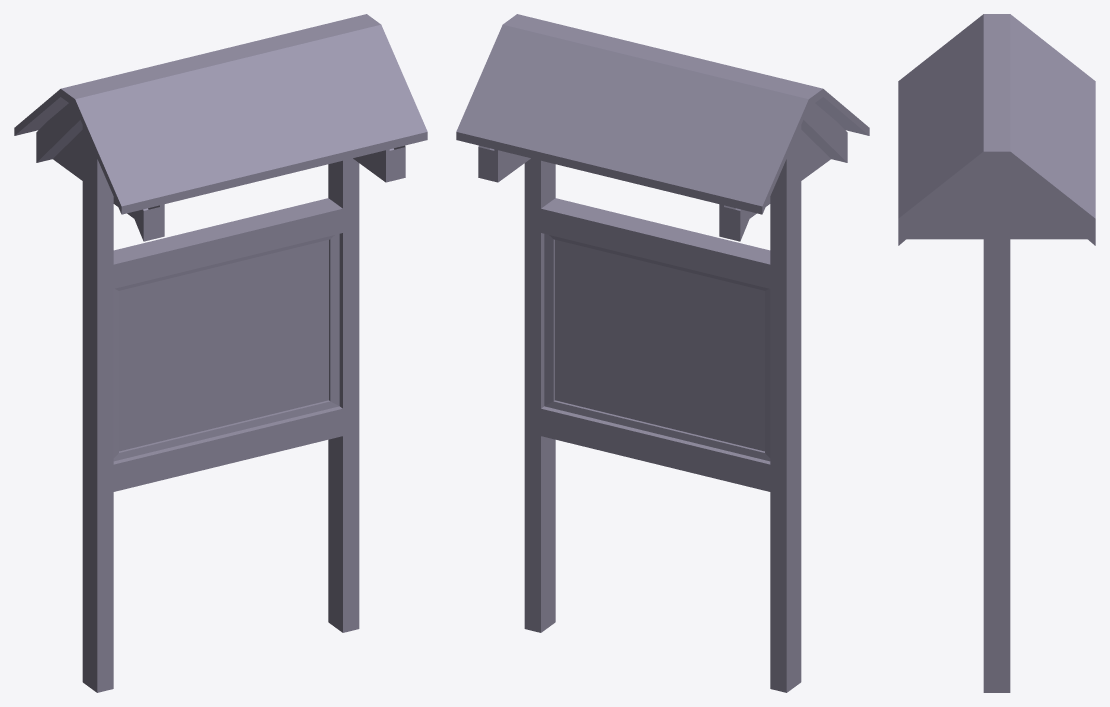
File: SM_Billboard.fbx
3 renders of one model, left to right at view 1: azimuth 30°, elevation 25°; view 2: azimuth 150°, elevation 25°; view 3: azimuth 270°, elevation 25°, orthographic. The views are drawn at different scales.
Parts seen in each view (by area): view 1: SM_Billboard; view 2: SM_Billboard; view 3: SM_Billboard.
Boxes of the visible parts, left/top/right/bottom form: SM_Billboard: left=14, top=14, right=427, bottom=692; SM_Billboard: left=456, top=14, right=869, bottom=692; SM_Billboard: left=898, top=14, right=1095, bottom=692.
Bounding box in the file's own units: 1.59 × 2.97 × 0.9632.
